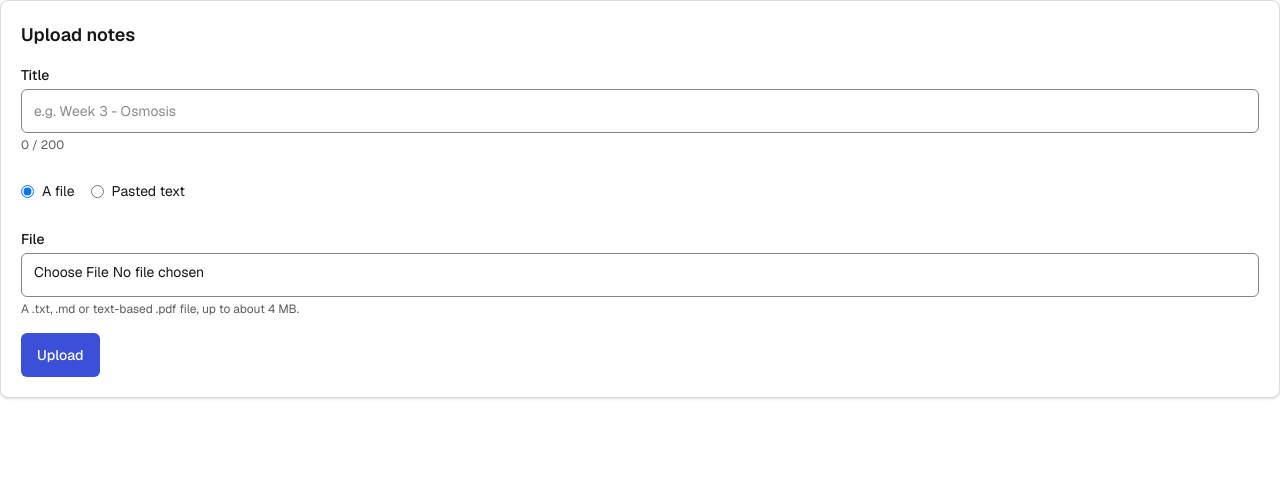
Test case: UploadForm › caps pasted text at the note limit, with a counter
Step 1. Click the radio button labelled "Pasted text" → point(97, 191), box top-left (91, 184), bottom-right (104, 198)
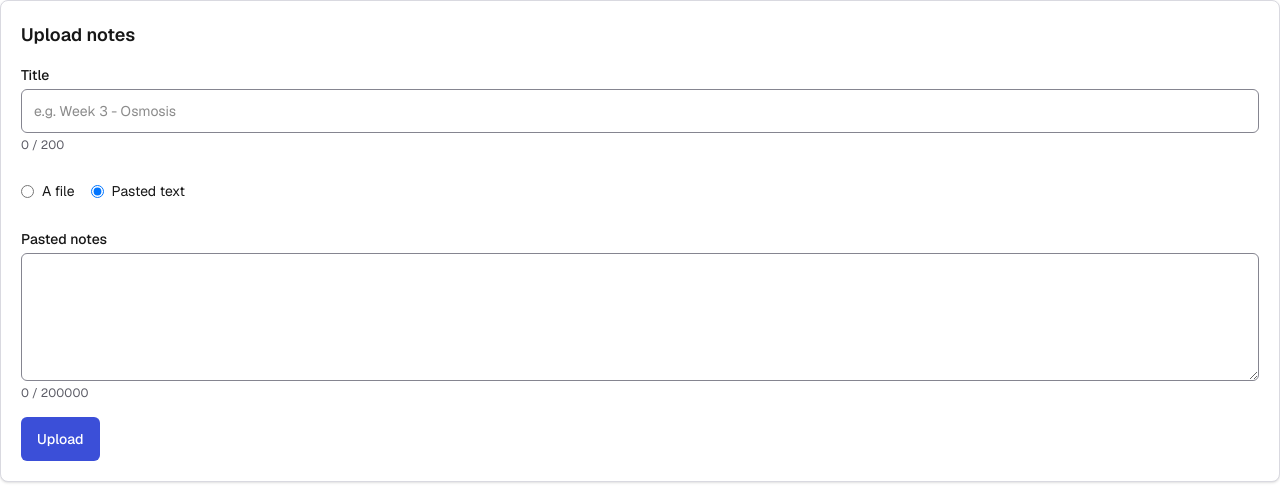
Result: the text "0 / 200000" is shown at top-left (21, 385), bottom-right (88, 401)
